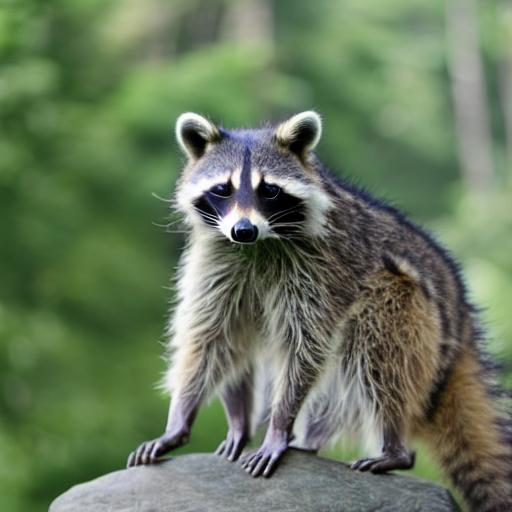raccoon: (156, 102, 512, 512)
